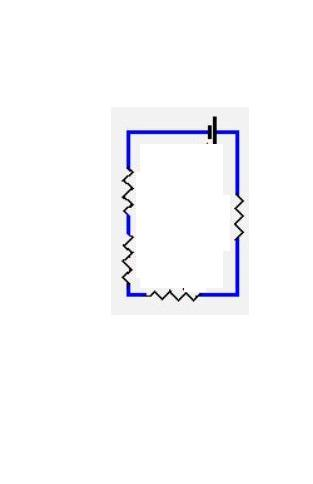resistor: (103, 157, 144, 229), (218, 179, 254, 244), (141, 281, 212, 307)
